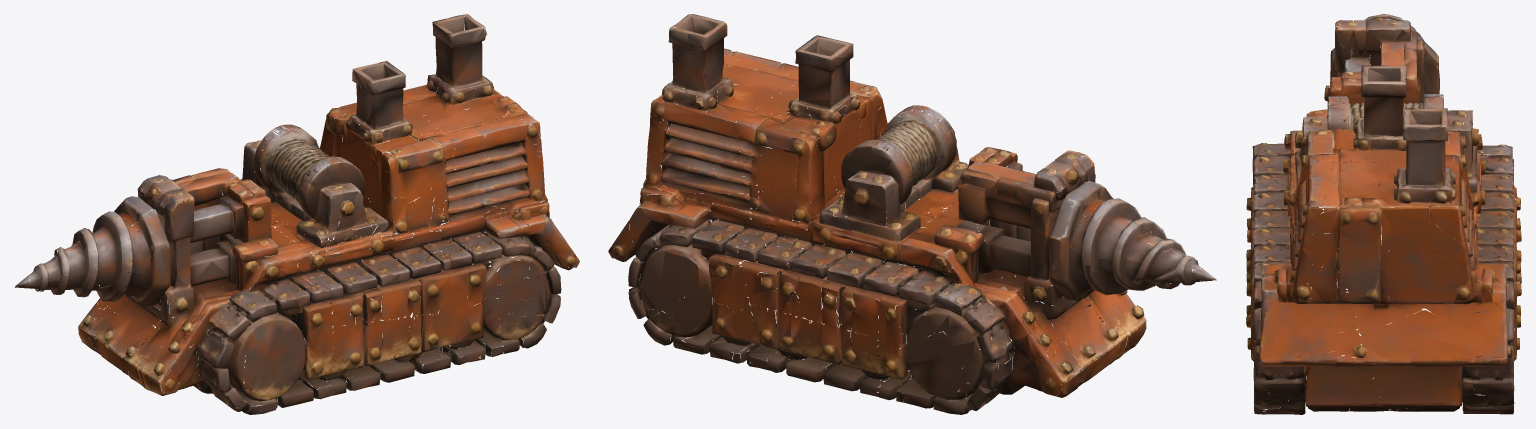
The model's file is sandcrawler.glb.
3 views of the same model, side by side, from view 1: azimuth 30°, elevation 25°; view 2: azimuth 150°, elevation 25°; view 3: azimuth 270°, elevation 25° (orthographic). The views are drawn at different scales.
Parts seen in each view (by area): view 1: tripo_node_23d20daf-e3ab-4873-8b42-75a37fa0efd5; view 2: tripo_node_23d20daf-e3ab-4873-8b42-75a37fa0efd5; view 3: tripo_node_23d20daf-e3ab-4873-8b42-75a37fa0efd5.
Part boxes in pixels (x1=…): tripo_node_23d20daf-e3ab-4873-8b42-75a37fa0efd5: x1=14, y1=14, x2=579, y2=414; tripo_node_23d20daf-e3ab-4873-8b42-75a37fa0efd5: x1=608, y1=14, x2=1216, y2=414; tripo_node_23d20daf-e3ab-4873-8b42-75a37fa0efd5: x1=1246, y1=14, x2=1521, y2=414.
Bounding box in the file's own units: 0.9842 × 0.4942 × 0.4101.
1 material, 1 textured.
